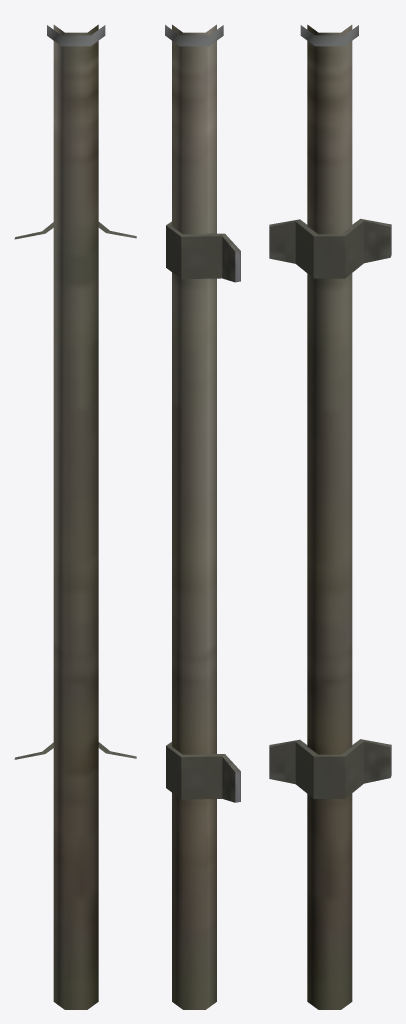
File: pipesystem01a.glb
3 renders of one model, left to right at view 1: azimuth 90°, elevation 25°; view 2: azimuth 210°, elevation 25°; view 3: azimuth 270°, elevation 25°, orthographic.
Parts seen in each view (by area): view 1: 0_powerbox001; view 2: 0_powerbox001; view 3: 0_powerbox001.
Boxes of the visible parts, x1=… form: 0_powerbox001: x1=14, y1=24, x2=136, y2=1009; 0_powerbox001: x1=165, y1=24, x2=240, y2=1009; 0_powerbox001: x1=269, y1=24, x2=391, y2=1009.
Size of the model in its own units: 0.0765 by 1.62 by 0.1838.
1 material, 1 textured.
